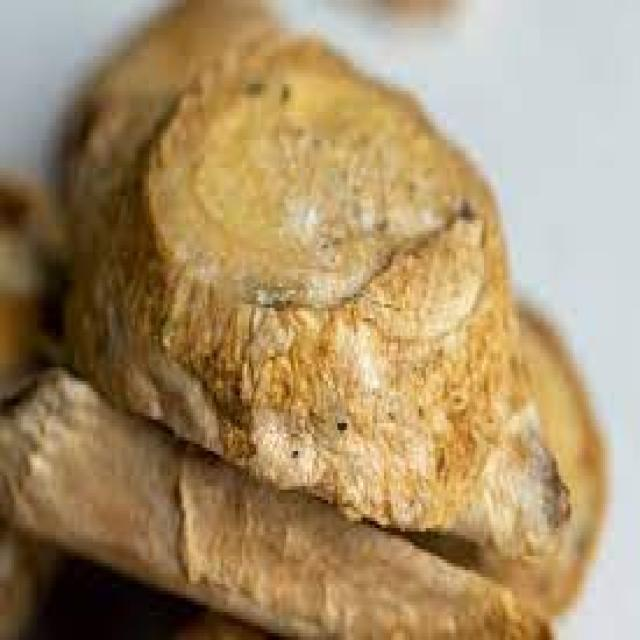ginger: (125, 80, 574, 591)
